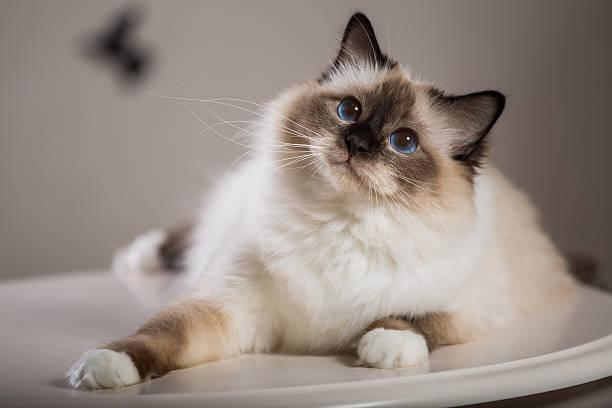kedo: (67, 11, 573, 391)
